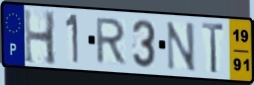1: (64, 13, 80, 66)
3: (130, 18, 158, 70)
H: (22, 7, 58, 67)
N: (165, 20, 198, 74)
R: (94, 16, 128, 66)
T: (200, 21, 226, 75)
